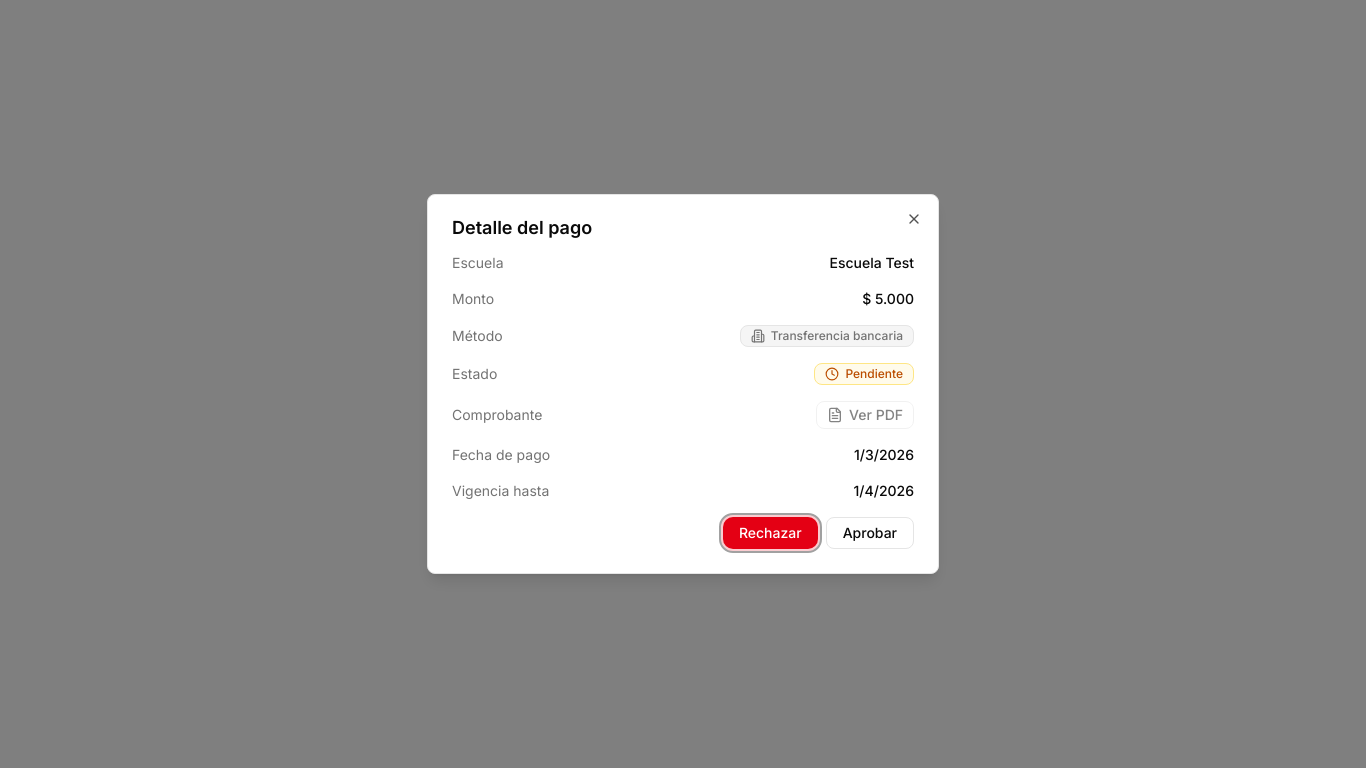
Scenario: PaymentDetailDialog › Reject action › opens RejectPaymentDialog when Rechazar is clicked
This screenshot has width=1366, height=768.
Step 1. Click the button "Rechazar" → (770, 533), box [723,517,818,549]
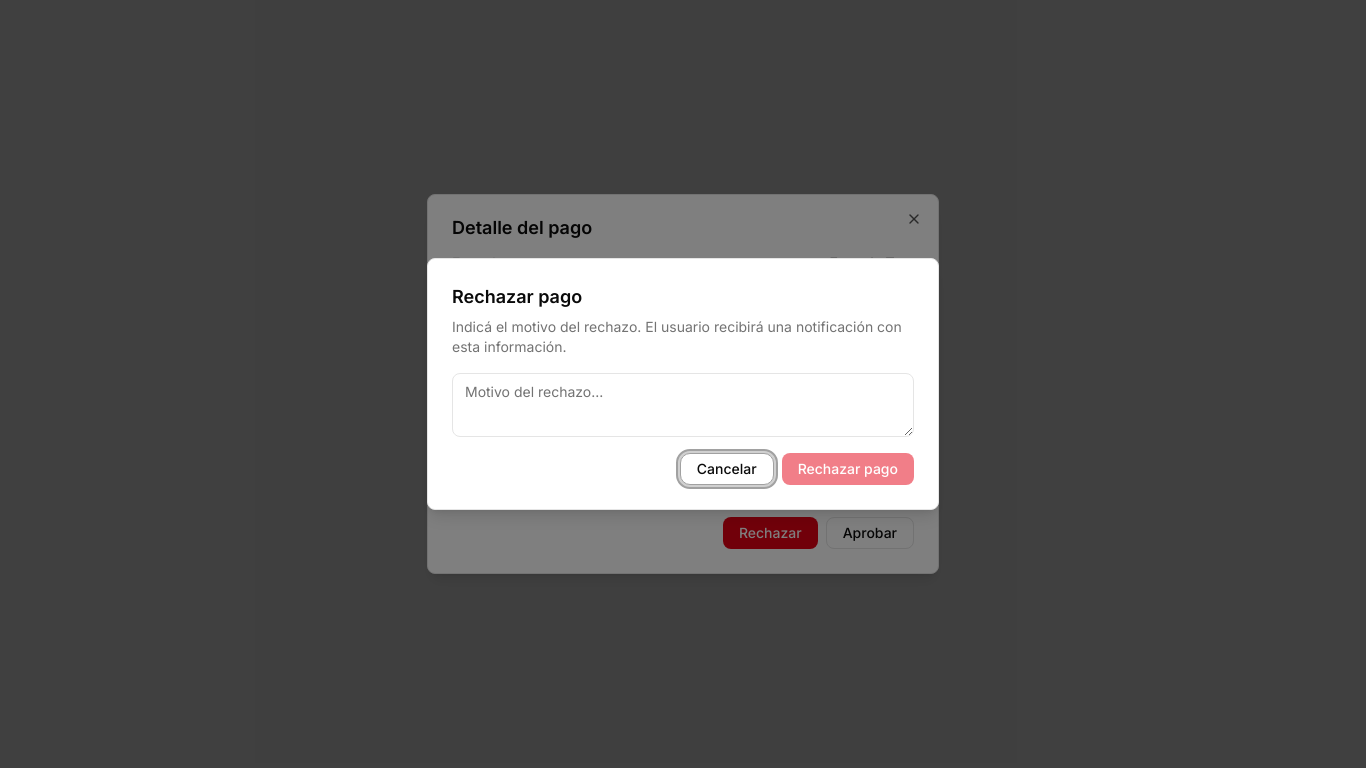
Check: the heading "Rechazar pago" is shown, box [452,283,582,311]
